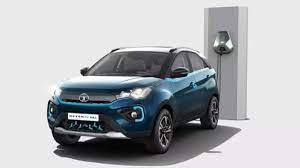Tata Nexon: (43, 43, 223, 158)
